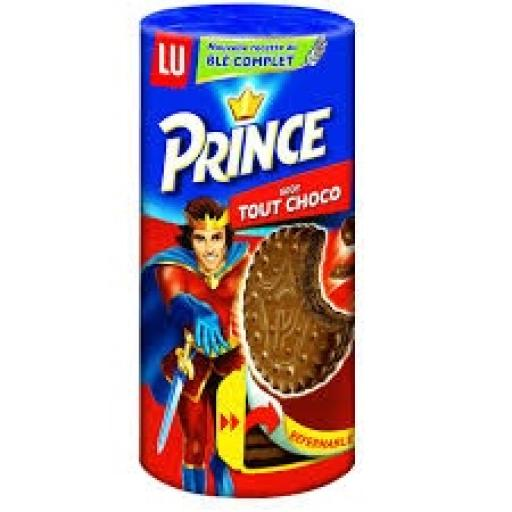prince: (150, 29, 390, 368)
